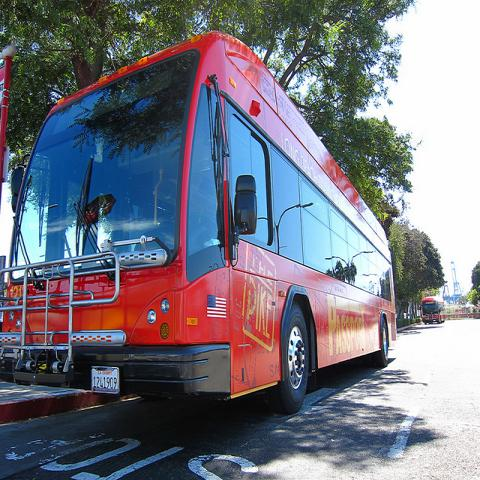bus: (0, 30, 396, 413), (420, 295, 446, 325)
